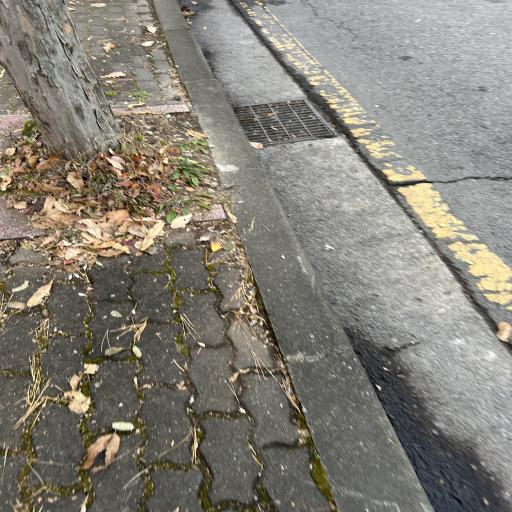drain: (234, 100, 336, 146)
